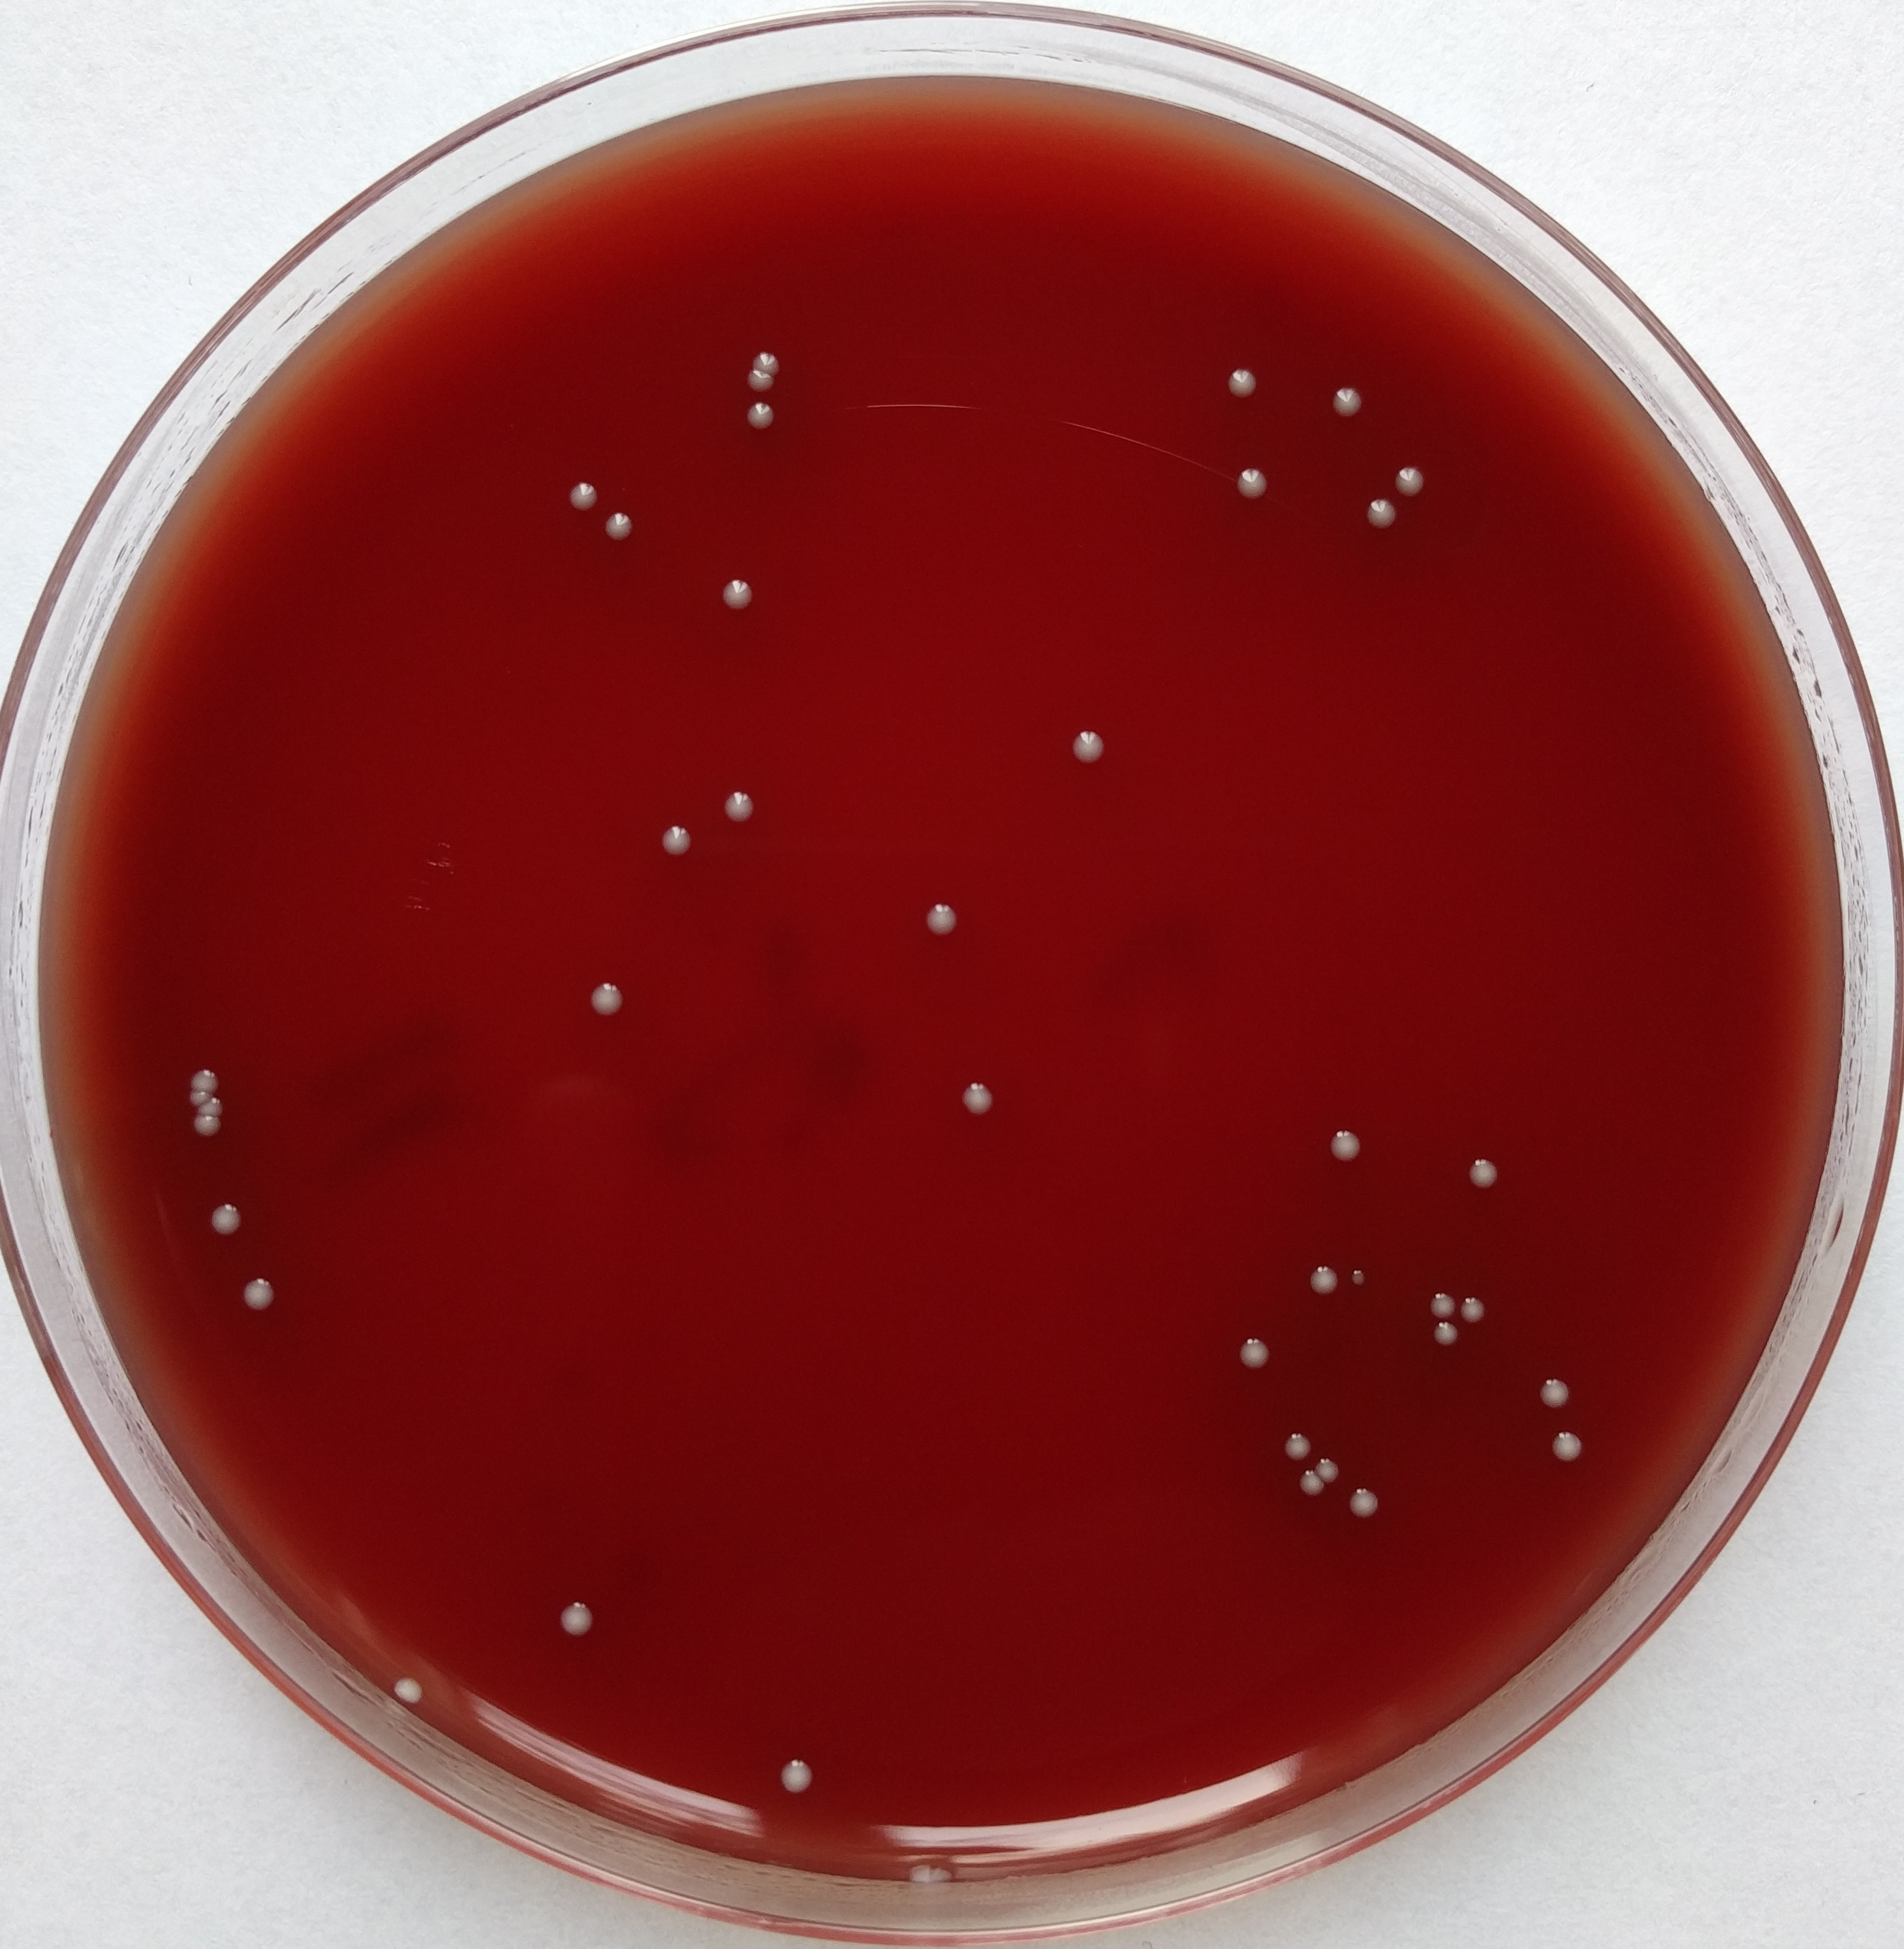sp24: (1048, 715, 1132, 779), (1447, 1123, 1513, 1201), (171, 1023, 237, 1098), (704, 774, 783, 837), (579, 964, 649, 1034), (924, 1076, 1023, 1124), (1323, 357, 1384, 432), (541, 1579, 607, 1646), (907, 882, 964, 957), (643, 800, 704, 866), (1221, 1321, 1282, 1386), (769, 1733, 826, 1799), (1534, 1351, 1587, 1421), (197, 1184, 255, 1245), (232, 1260, 279, 1321), (1543, 1419, 1595, 1473), (596, 492, 649, 544), (1315, 1123, 1381, 1163), (1414, 1278, 1466, 1327), (1341, 1480, 1390, 1532), (1336, 1248, 1381, 1304), (738, 331, 792, 377), (1215, 345, 1255, 406), (1224, 460, 1285, 500), (713, 556, 753, 617), (1383, 457, 1437, 500), (553, 465, 598, 514), (1294, 1257, 1343, 1300), (385, 1656, 422, 1714), (183, 1102, 223, 1154), (1358, 492, 1402, 539), (1275, 1424, 1315, 1466), (734, 403, 785, 436), (1456, 1281, 1496, 1321), (1431, 1313, 1466, 1353), (738, 366, 778, 397), (1290, 1471, 1322, 1501), (1320, 1447, 1341, 1478)
